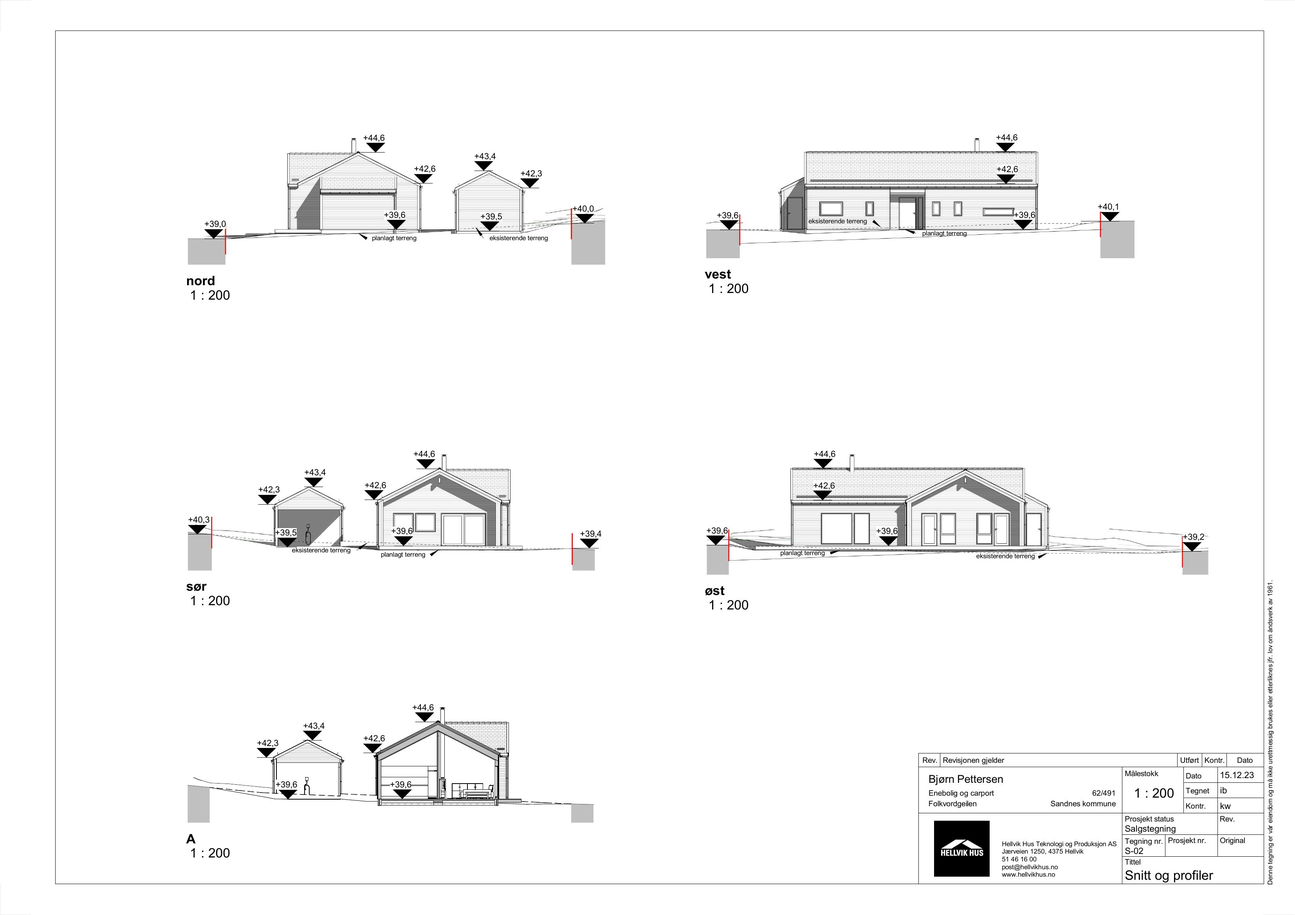fasade: (754, 453, 1052, 561), (778, 137, 1041, 242), (271, 453, 524, 554), (274, 137, 527, 237)
snitt: (269, 706, 525, 809)
